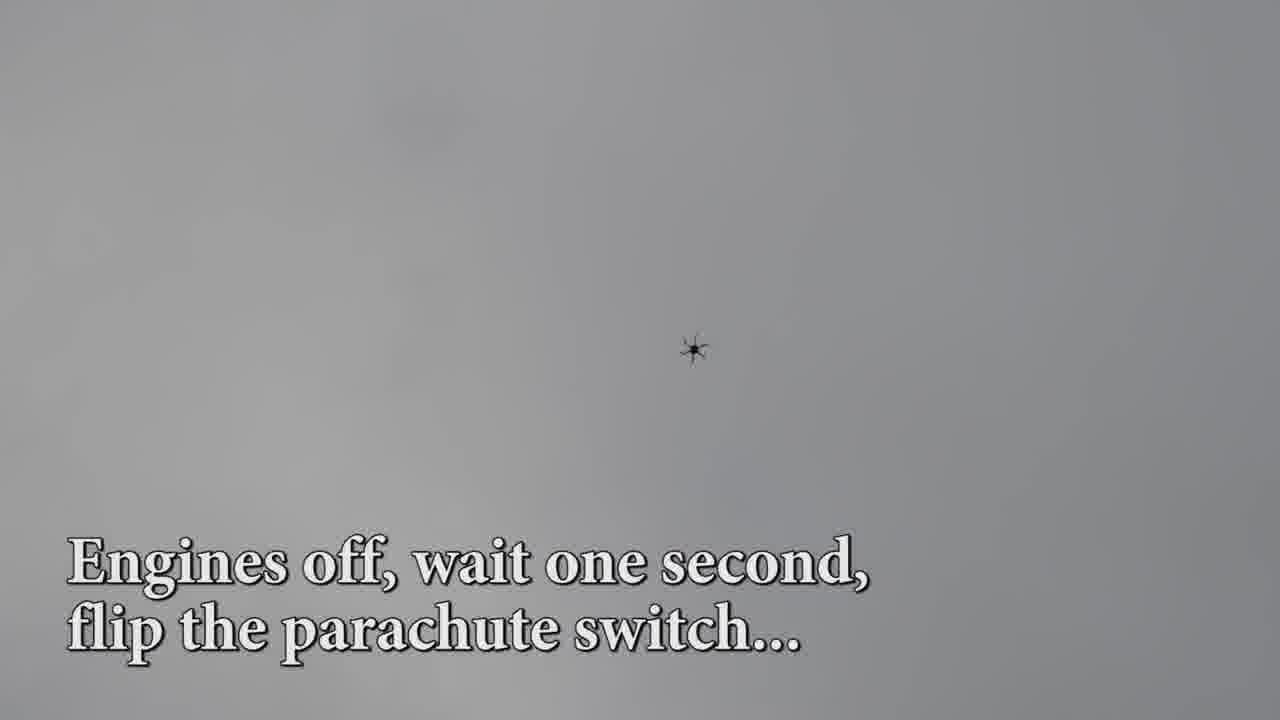drone: (673, 323, 719, 368)
